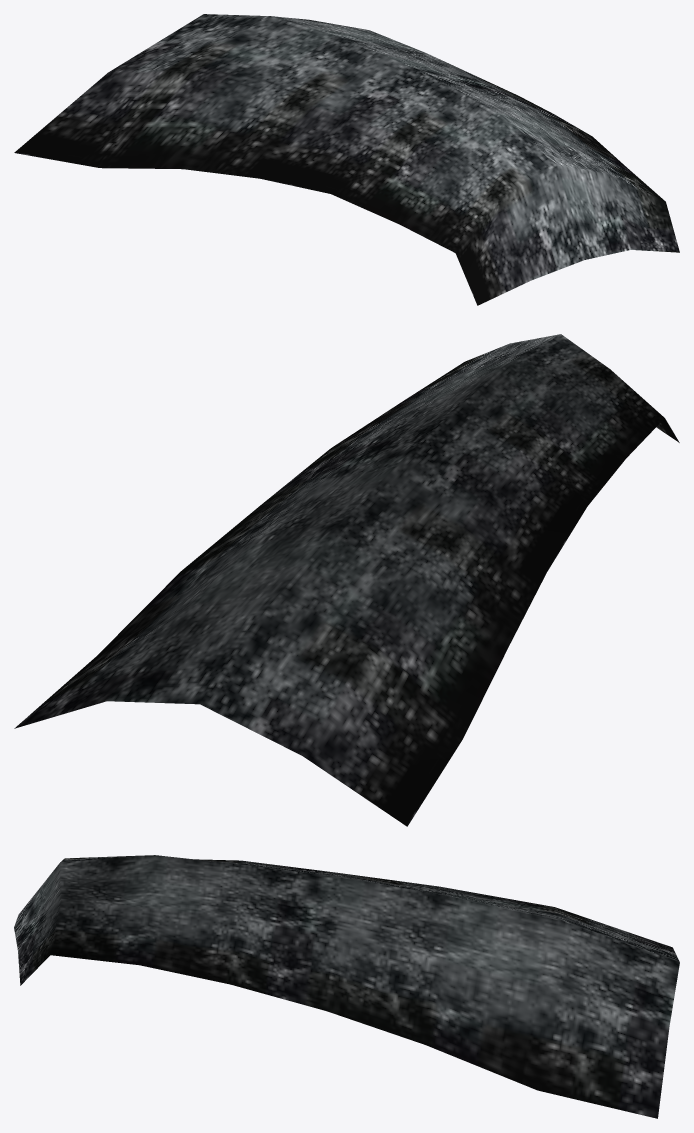
The model's file is water25.obj.
3 views of the same model, one above another, from view 1: azimuth 30°, elevation 25°; view 2: azimuth 150°, elevation 25°; view 3: azimuth 270°, elevation 25° (orthographic). The views are drawn at different scales.
Parts seen in each view (by area): view 1: water25; view 2: water25; view 3: water25.
Part boxes in pixels (<box>): water25: <box>14,14,679,305</box>; water25: <box>14,334,679,826</box>; water25: <box>14,855,679,1118</box>.
Size of the model in its own units: 224 by 110 by 374.
